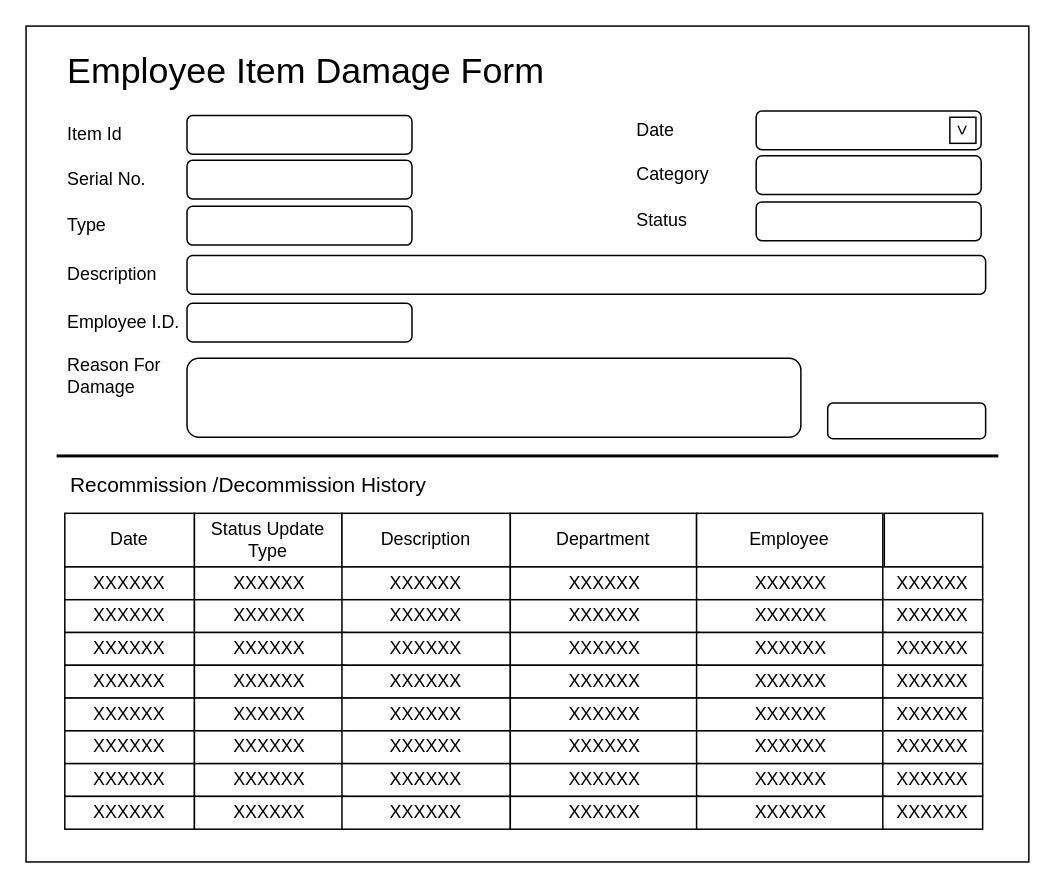
Some shapes in this 1055 by 888 pixel diagram are drawn without their labels. Each missing label, with the centre of its shape:
Admin: the point at 933,539
Create Report: the point at 906,420
